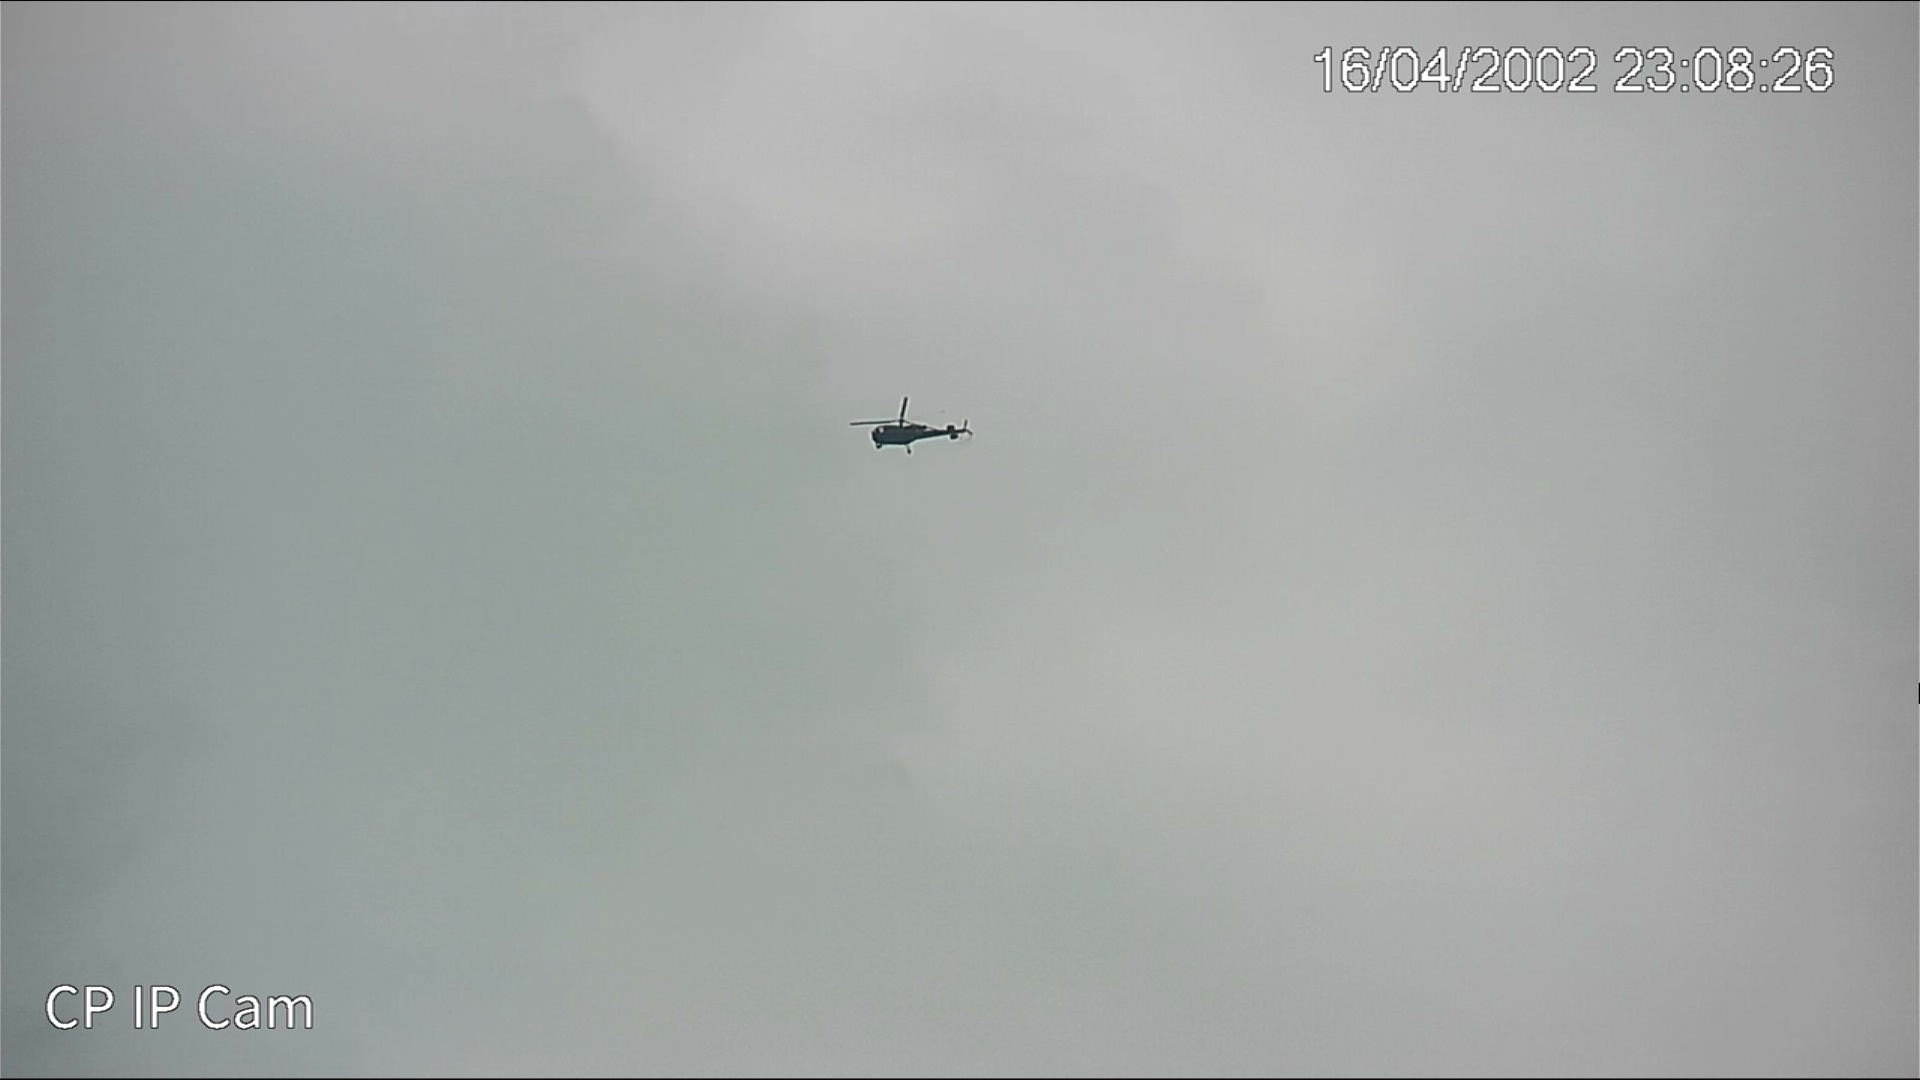SU_30: (848, 396, 975, 456)
